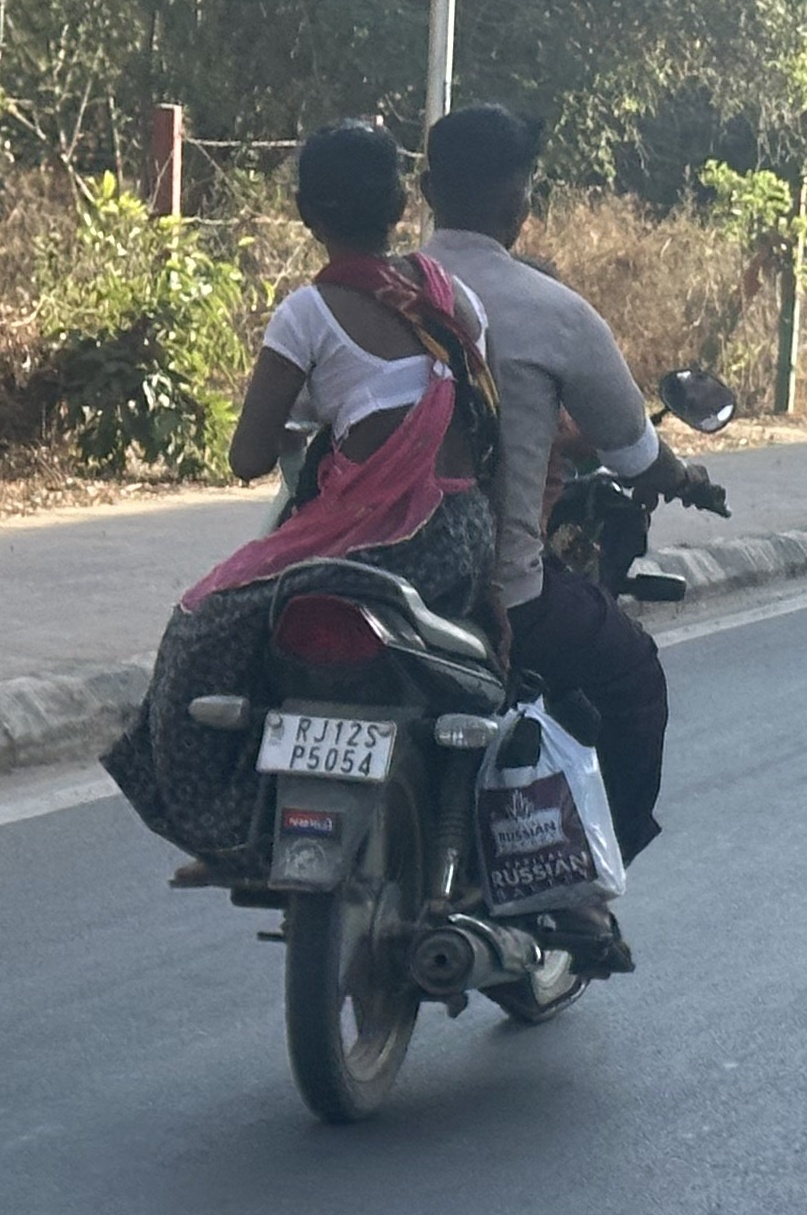BikeWithRider: (76, 61, 748, 1144)
NoHelmet: (397, 84, 553, 256), (278, 108, 429, 269)
